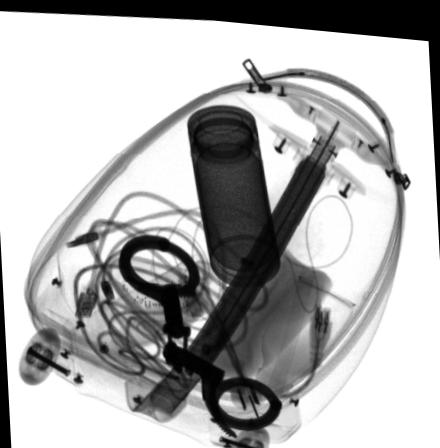HandCuffs: (117, 230, 283, 434)
